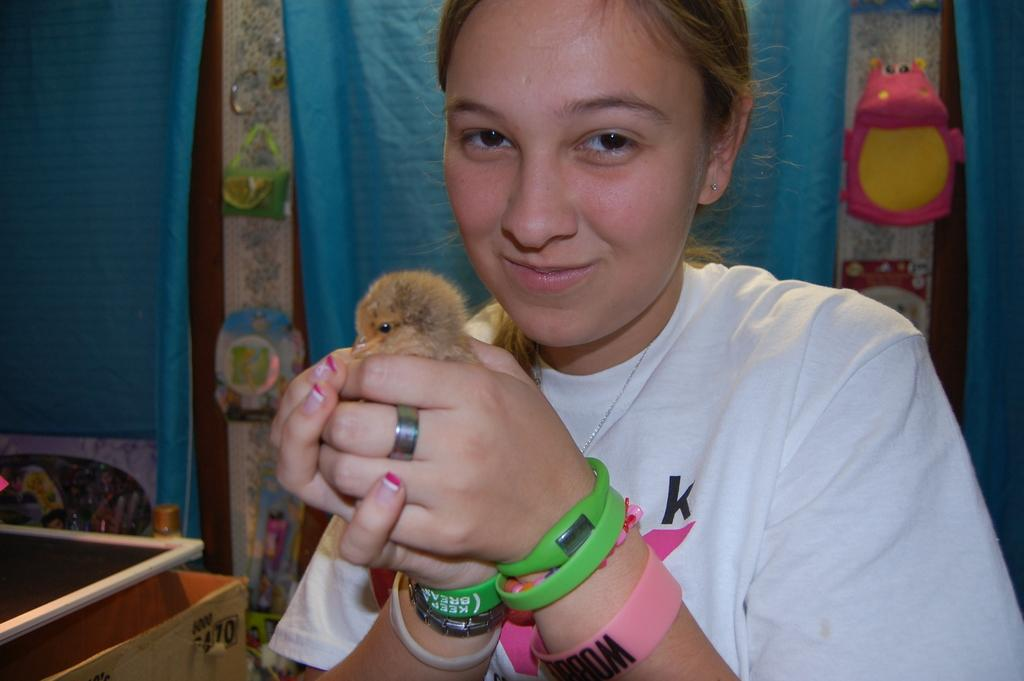no_helmet: (430, 110, 742, 183)
none: (440, 311, 940, 556)
